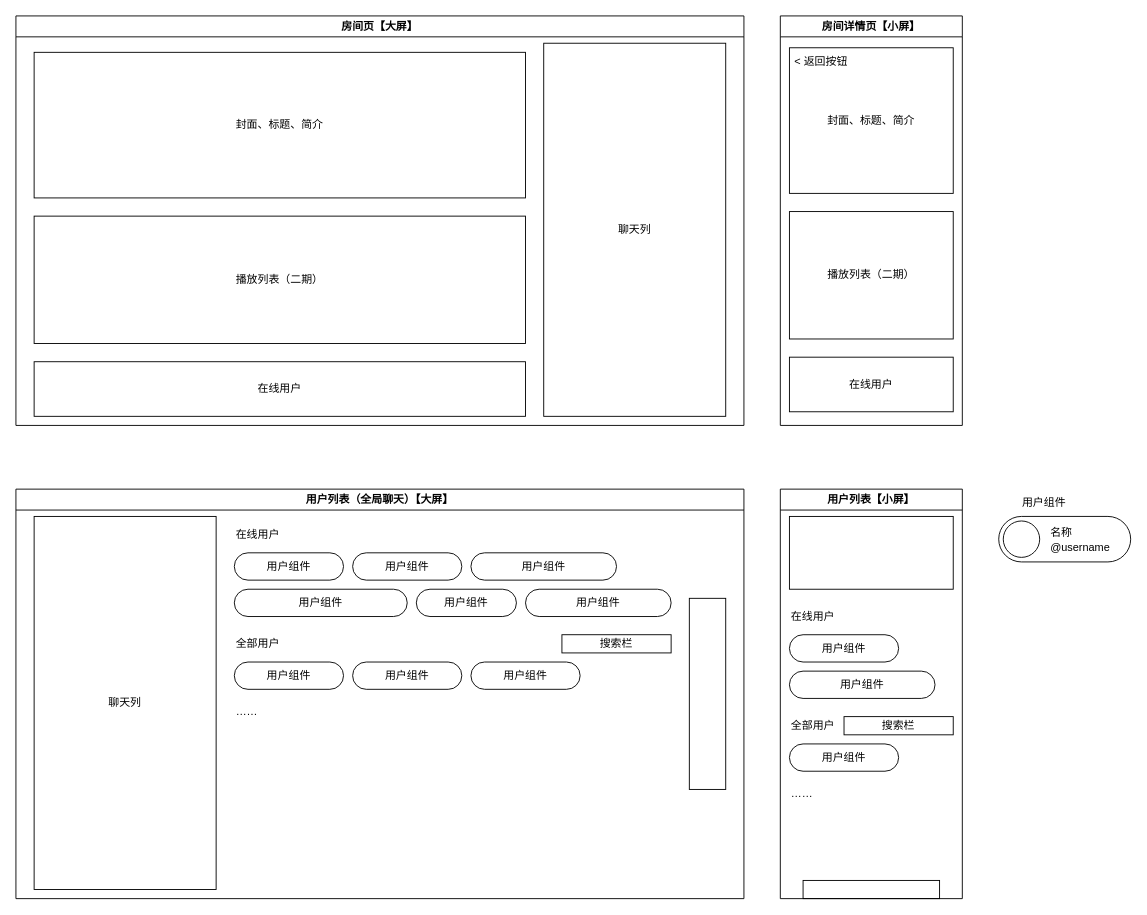
The diagram is 1147 pixels wide and 915 high, and some of its shapes have lost their labels. The centre of each missing label's shape, as x and y in pixels:
头像: the point at 1021,538
导 航 栏: the point at 707,693
导航栏: the point at 871,889
显示最近几条全局聊天 点击跳转至移动端全局聊天: the point at 871,552
